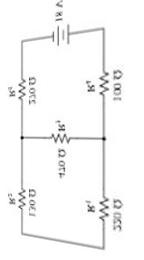Battery: (47, 13, 88, 49)
